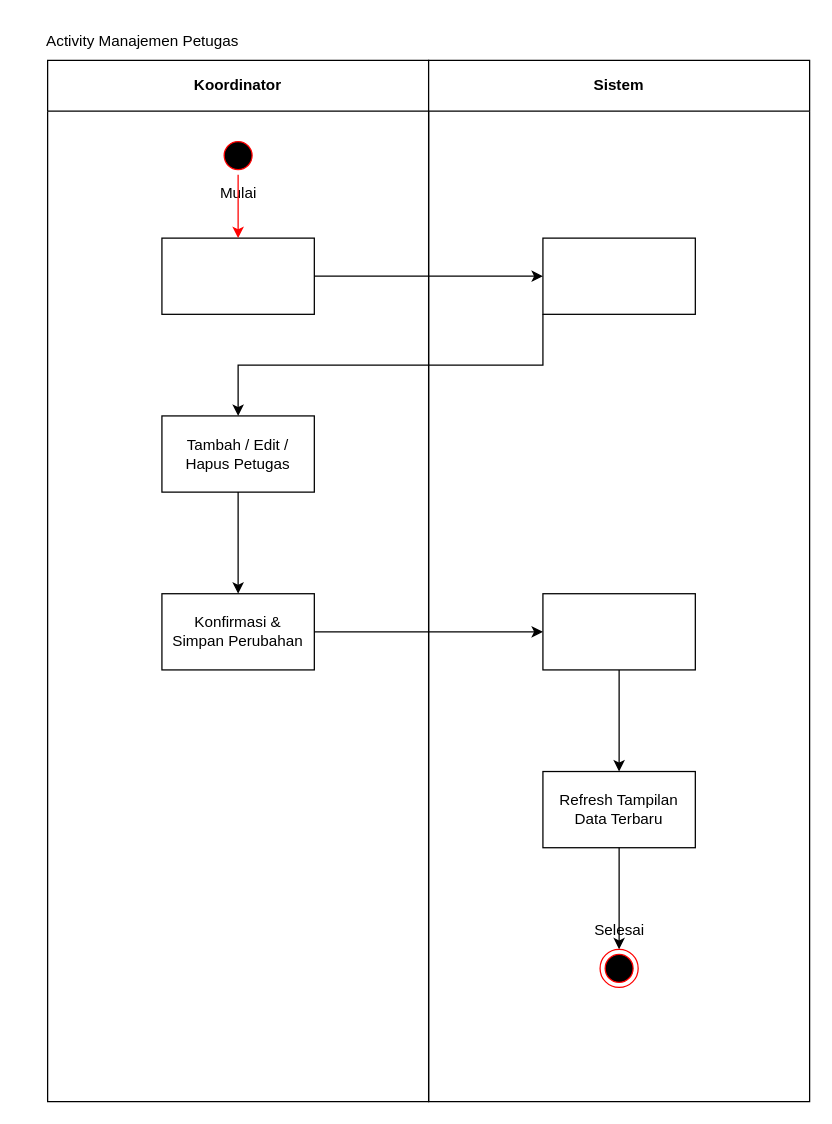
Image size: 832x1124. Some labels were removed from this diagram. Here are the shapes that lost their labels. From the top down, the centre of each, then its label:
At (237,275): "Akses Menu Manajemen Petugas".
At (618,275): "Menampilkan Daftar Petugas".
At (618,631): "Validasi Data & Update Database".
